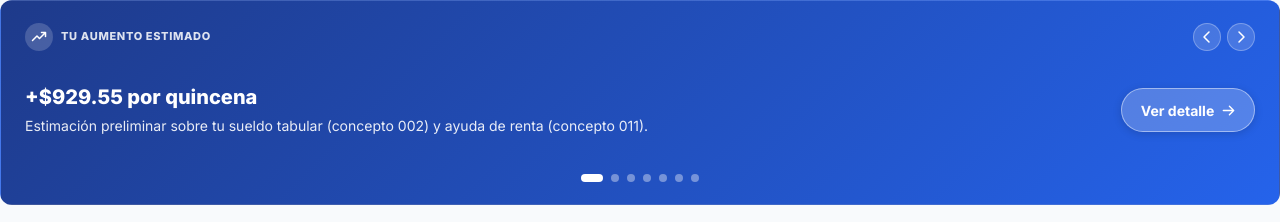
Test: HomeHighlightsCarousel › 2. vacaciones 2027 aparece en los slides disponibles
// Al pulsar el tab correspondiente, se visualiza el slide
Click the tab named "Ya están disponibles los roles vacacionales 2027" at {"x": 615, "y": 178}, box [611,174,619,182]
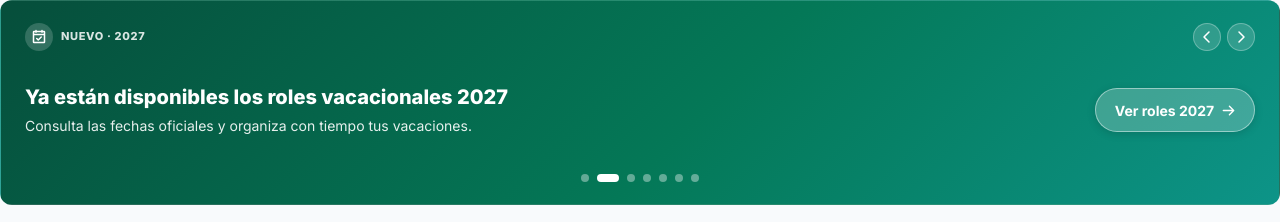
Expected: the element with test id "highlight-vacation-roles" is shown
Expected: the heading "Ya están disponibles los roles vacacionales 2027" is shown, [25,85,508,109]
Expected: the text "Ver roles 2027" is shown, [1115,100,1214,121]
